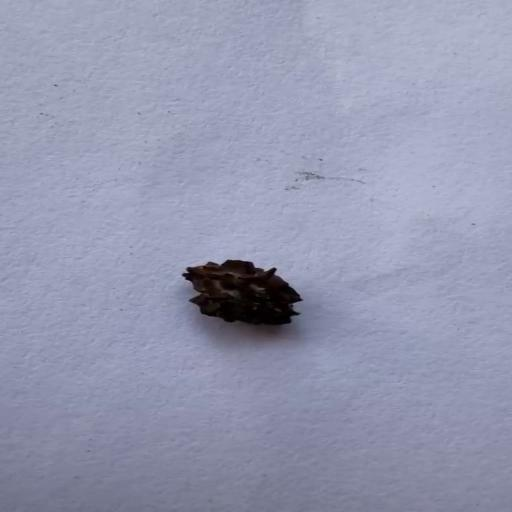papaya_seed: (181, 258, 305, 325)
